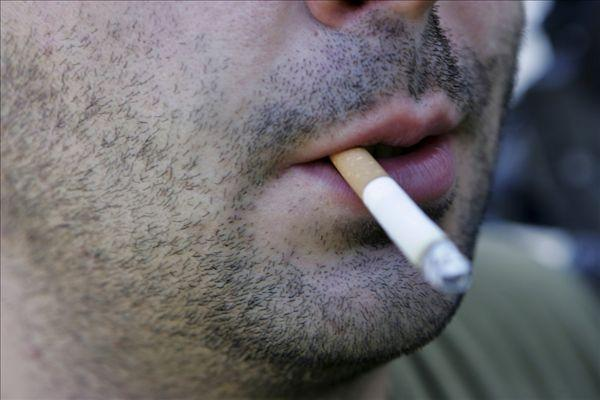smoke: (330, 143, 473, 297)
